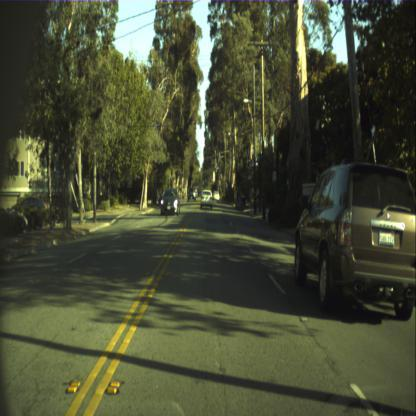Green: (204, 177, 206, 182)
